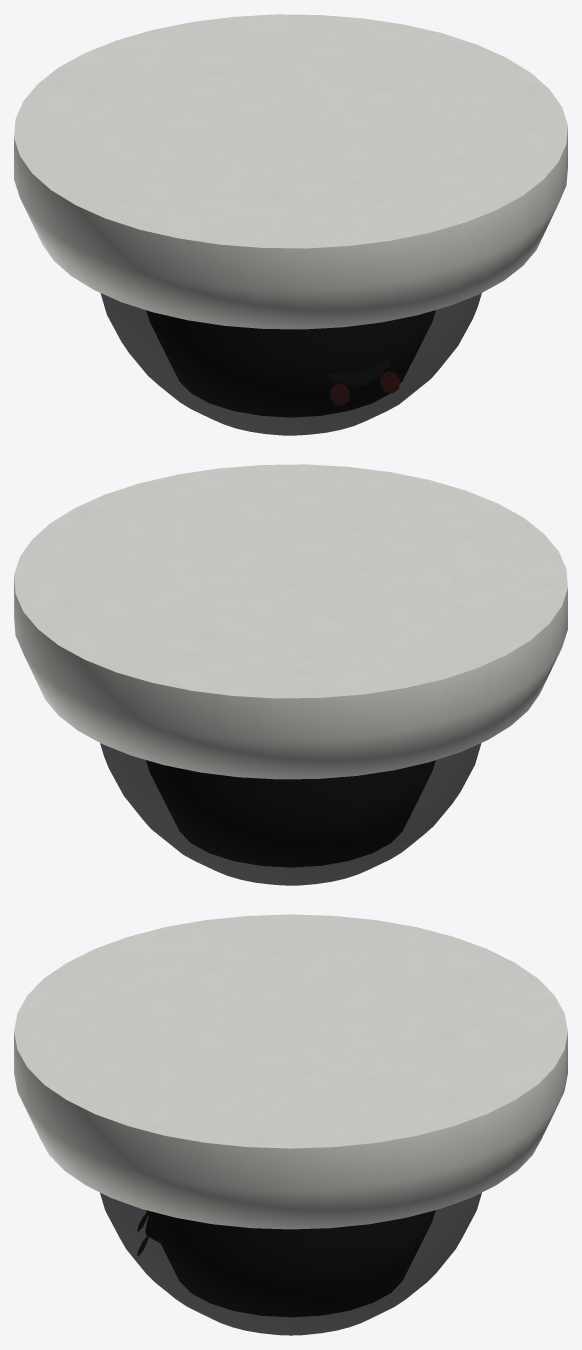
Rendered from CCTVDome.obj.
The picture shows the model from 3 angles, top to bottom: view 1: azimuth 30°, elevation 25°; view 2: azimuth 150°, elevation 25°; view 3: azimuth 270°, elevation 25°; orthographic projection.
Visible parts, largest first — view 1: Housing, Dome, Inner, IR; view 2: Housing, Dome, Inner; view 3: Housing, Dome, Inner.
Part boxes in pixels (x1,y1,x2,y2): Housing: (14, 14, 567, 329); Dome: (100, 293, 481, 435); Inner: (146, 310, 435, 417); IR: (330, 371, 399, 405); Housing: (14, 464, 567, 779); Dome: (100, 743, 481, 885); Inner: (146, 760, 435, 867); Housing: (14, 914, 567, 1229); Dome: (100, 1192, 481, 1335); Inner: (145, 1210, 435, 1317).
Bounding box in the file's own units: 0.144 × 0.082 × 0.144.
5 materials, 2 textured.
